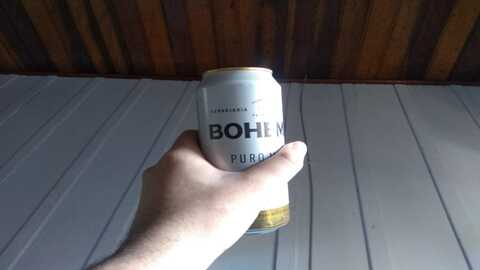bohemia: (193, 68, 301, 237)
